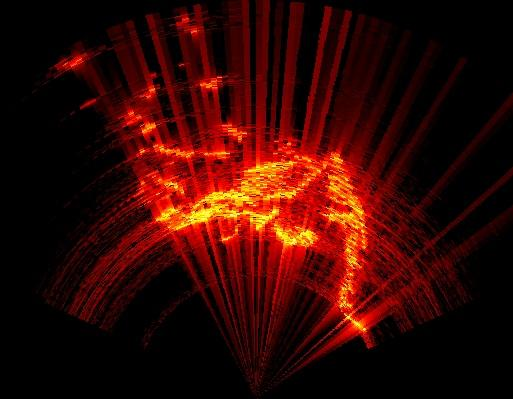shipwreck: (157, 155, 341, 246), (323, 172, 366, 330), (155, 145, 228, 160), (165, 181, 184, 194)
